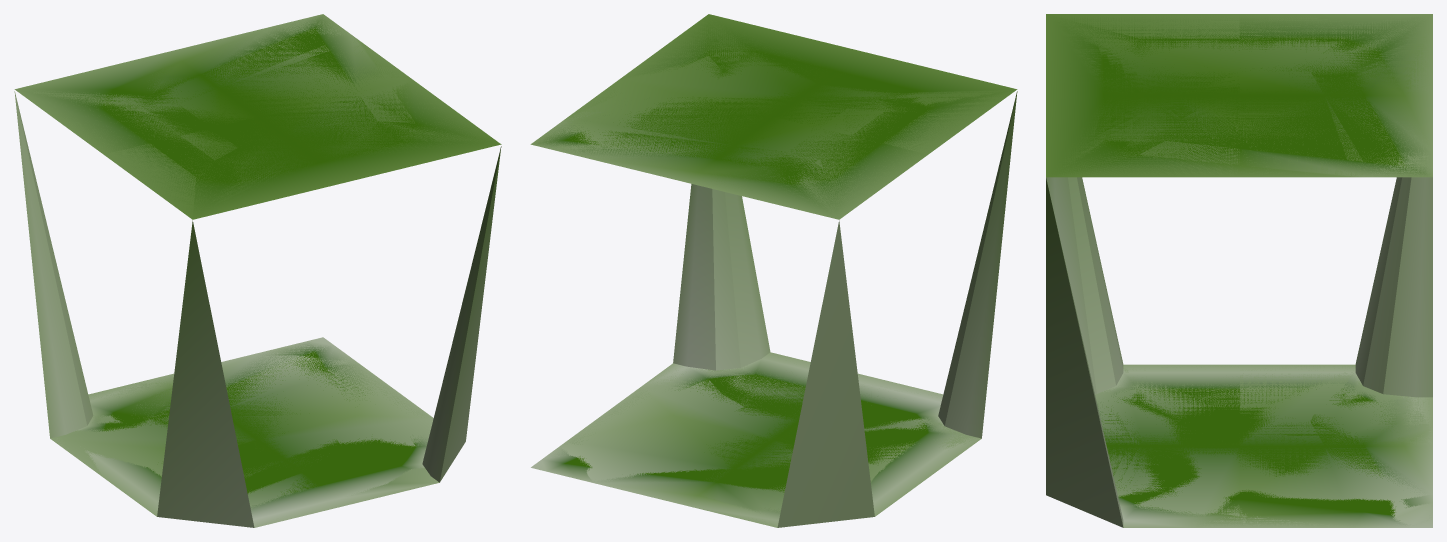
File: T5DirR.fbx
3 renders of one model, left to right at view 1: azimuth 30°, elevation 25°; view 2: azimuth 150°, elevation 25°; view 3: azimuth 270°, elevation 25°, orthographic. The views are drawn at different scales.
Visible parts, largest first — view 1: 3, 1, 4, 2; view 2: 1, 4, 3, 2; view 3: 4, 1, 3, 2.
Boxes of the visible parts, x1,y1,x2,y2 form: 3: [104, 117, 346, 527]; 1: [258, 79, 501, 505]; 4: [14, 51, 257, 477]; 2: [169, 14, 411, 439]; 1: [620, 14, 862, 439]; 4: [685, 117, 927, 527]; 3: [774, 51, 1017, 477]; 2: [530, 79, 773, 505]; 4: [1239, 14, 1432, 446]; 1: [1046, 95, 1239, 527]; 3: [1046, 14, 1239, 446]; 2: [1239, 95, 1432, 527].
Size of the model in its own units: 200 by 200 by 200.
